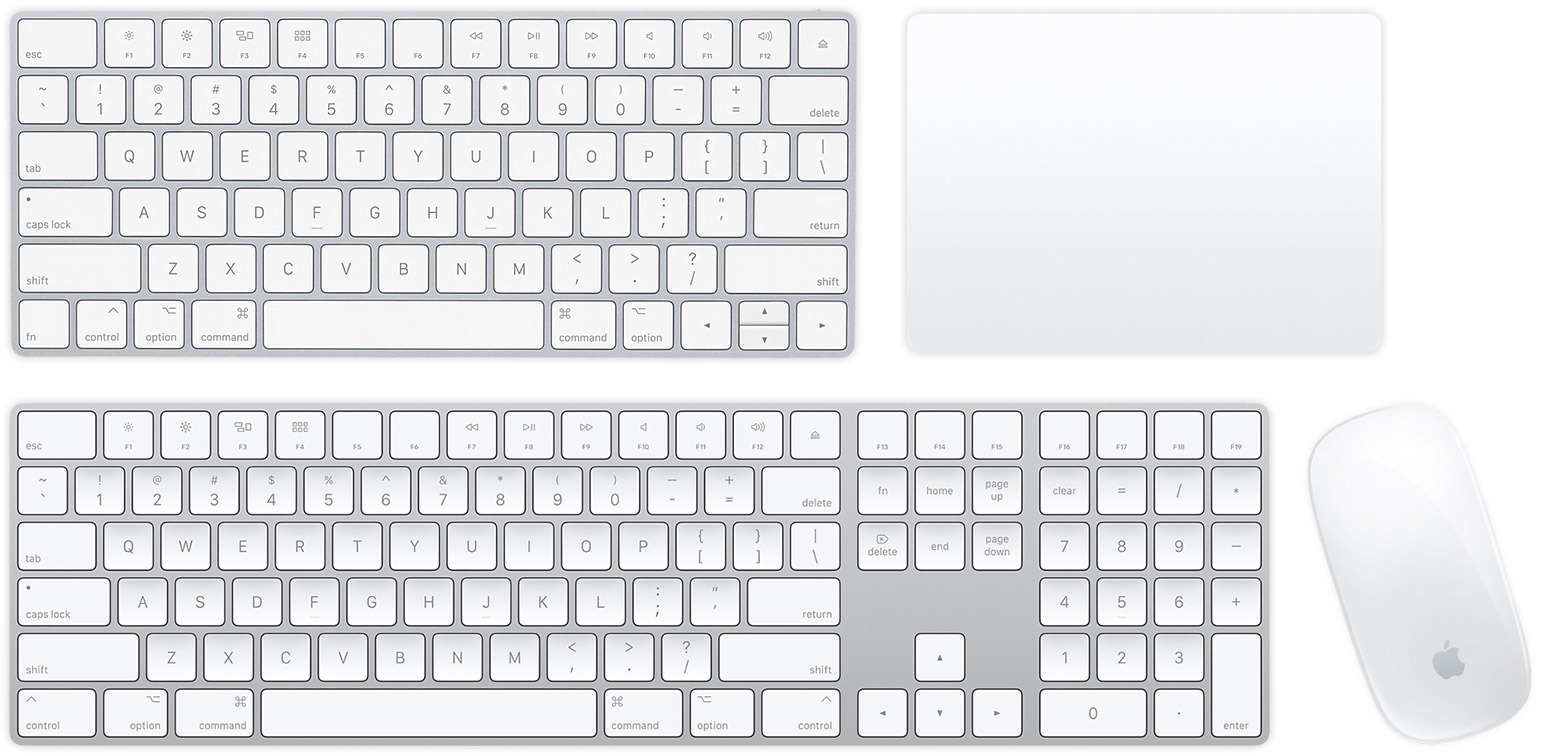keyboard: (12, 404, 1271, 752), (6, 6, 848, 352)
mouse: (1300, 404, 1549, 751)
